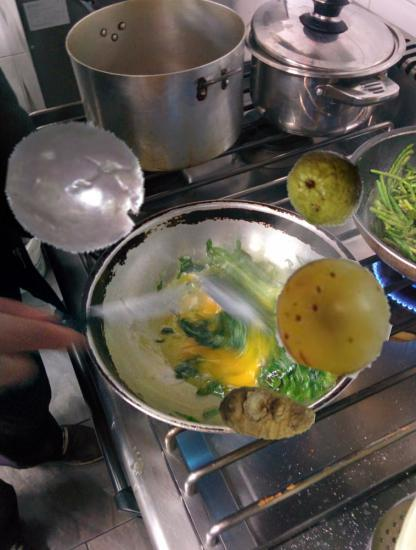Cantaloupe: (33, 174, 112, 253)
Ginger: (219, 366, 316, 463)
Grape: (275, 257, 393, 375)
Guava: (286, 148, 367, 229)
Passion: (4, 114, 148, 258)
